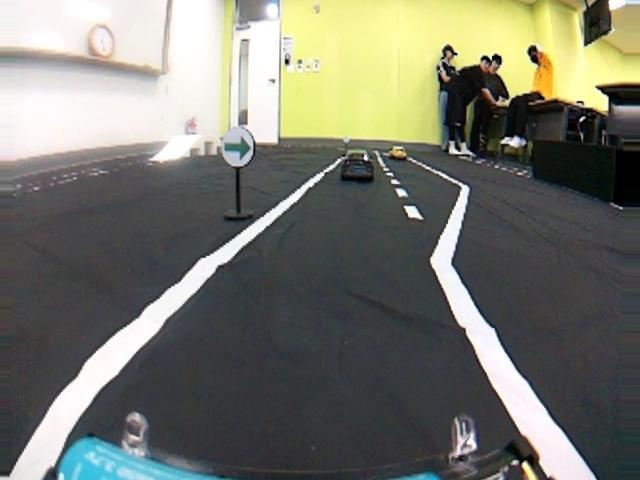car: (344, 148, 371, 181), (390, 147, 409, 156)
sign_right: (211, 129, 263, 172)
straight: (3, 244, 640, 469)
